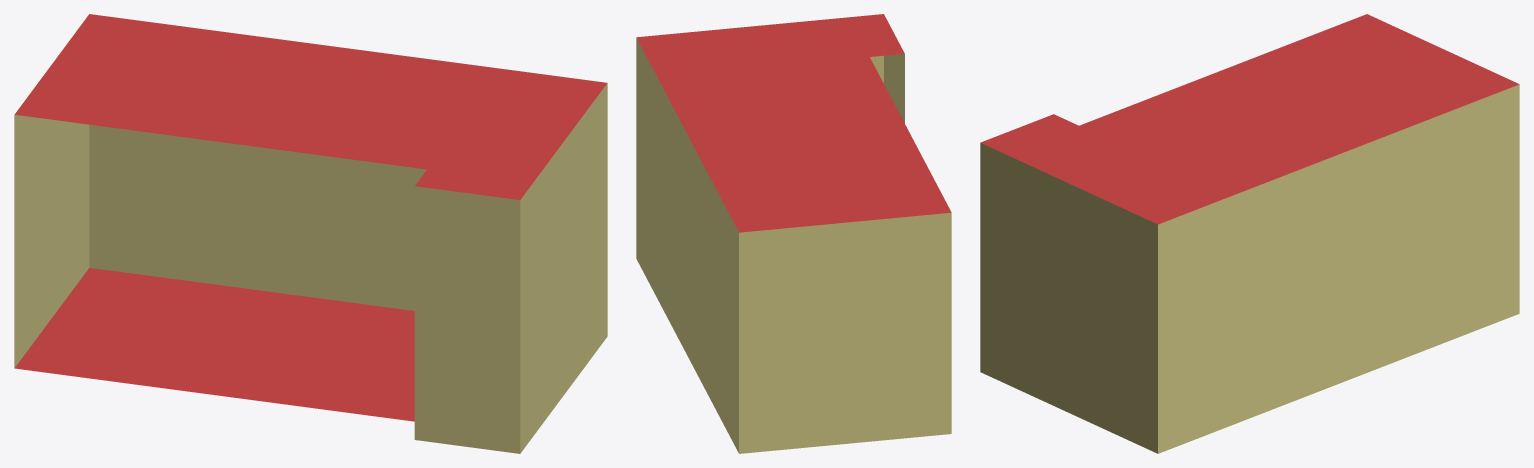
3 views of the same model, side by side, from view 1: azimuth 30°, elevation 25°; view 2: azimuth 150°, elevation 25°; view 3: azimuth 270°, elevation 25° (orthographic). The views are drawn at different scales.
Size of the model in its own units: 11.02 by 11.93 by 5.6.
